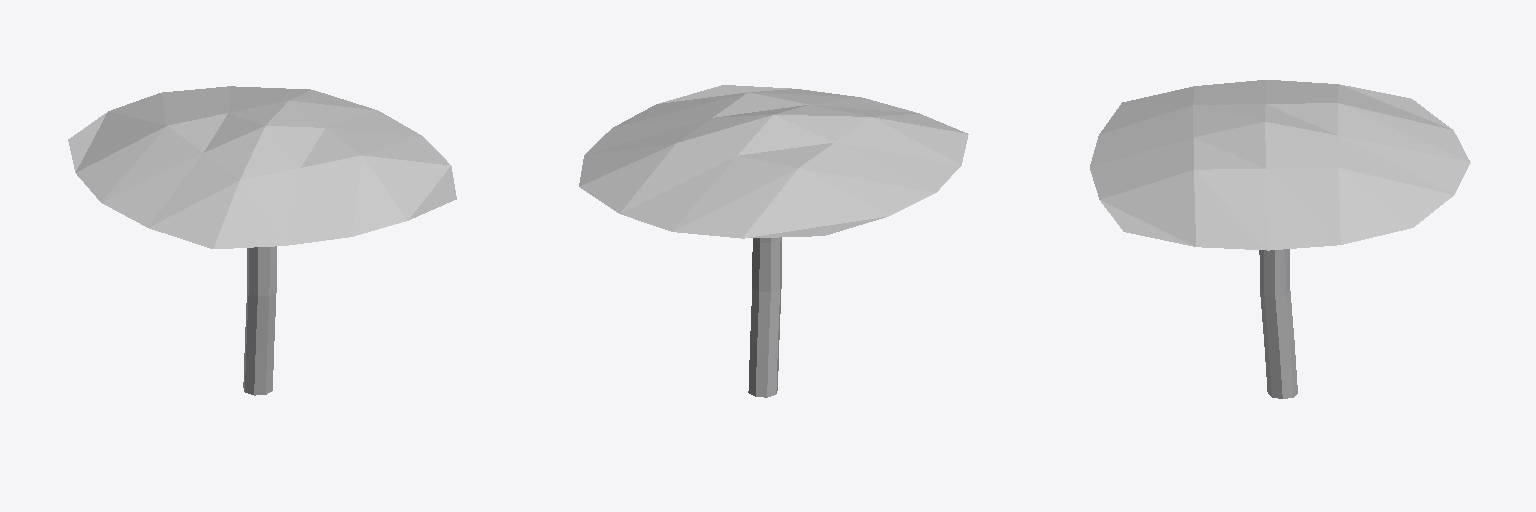
File: Trees.obj
The picture shows the model from 3 angles: view 1: azimuth 30°, elevation 25°; view 2: azimuth 150°, elevation 25°; view 3: azimuth 270°, elevation 25°; orthographic projection.
Parts seen in each view (by area): view 1: polySurface214 SK_Mannequin_SK_Mannequin, pCylinder32; view 2: polySurface214 SK_Mannequin_SK_Mannequin, pCylinder32; view 3: polySurface214 SK_Mannequin_SK_Mannequin, pCylinder32.
Part boxes in pixels (bbox=[...]): polySurface214 SK_Mannequin_SK_Mannequin: bbox=[68, 86, 456, 248]; pCylinder32: bbox=[243, 246, 276, 395]; polySurface214 SK_Mannequin_SK_Mannequin: bbox=[579, 85, 968, 238]; pCylinder32: bbox=[748, 237, 781, 397]; polySurface214 SK_Mannequin_SK_Mannequin: bbox=[1090, 80, 1470, 250]; pCylinder32: bbox=[1259, 249, 1297, 398].
Size of the model in its own units: 765 by 611 by 780.